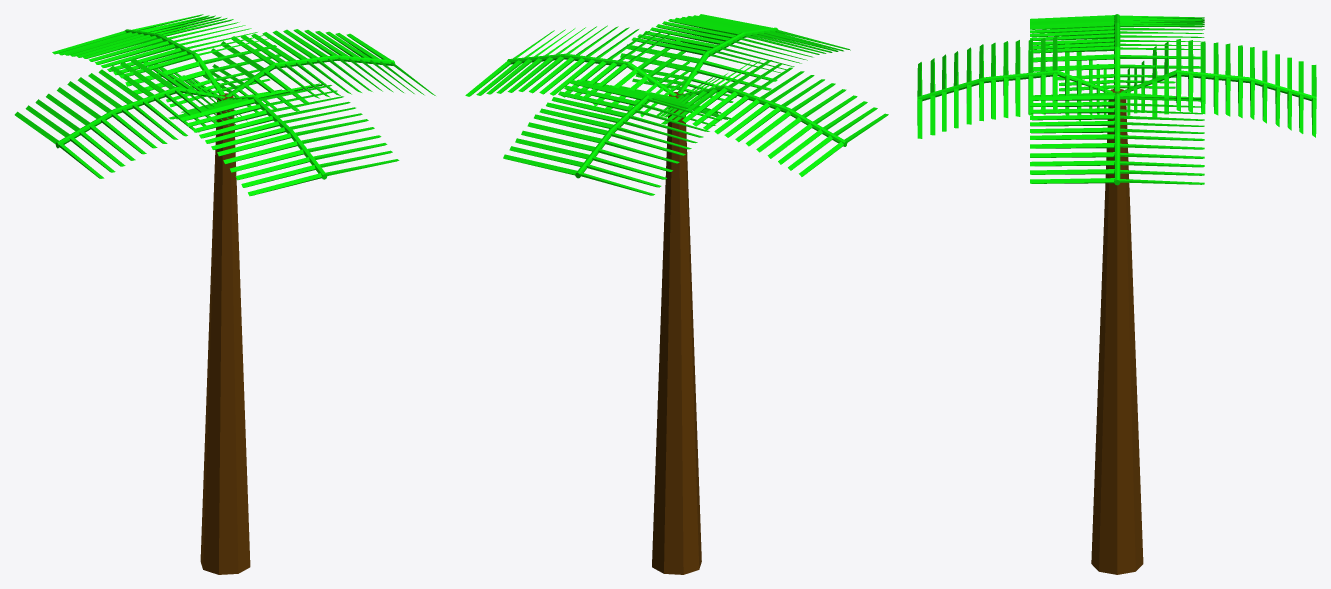
The model's file is palmeira.fbx.
3 views of the same model, side by side, from view 1: azimuth 30°, elevation 25°; view 2: azimuth 150°, elevation 25°; view 3: azimuth 270°, elevation 25° (orthographic).
Parts seen in each view (by area): view 1: palmeira; view 2: palmeira; view 3: palmeira.
Boxes of the visible parts, left/top/right/bottom form: palmeira: left=14, top=14, right=435, bottom=574; palmeira: left=465, top=14, right=888, bottom=574; palmeira: left=917, top=14, right=1316, bottom=574.
Size of the model in its own units: 566 by 786 by 576.
